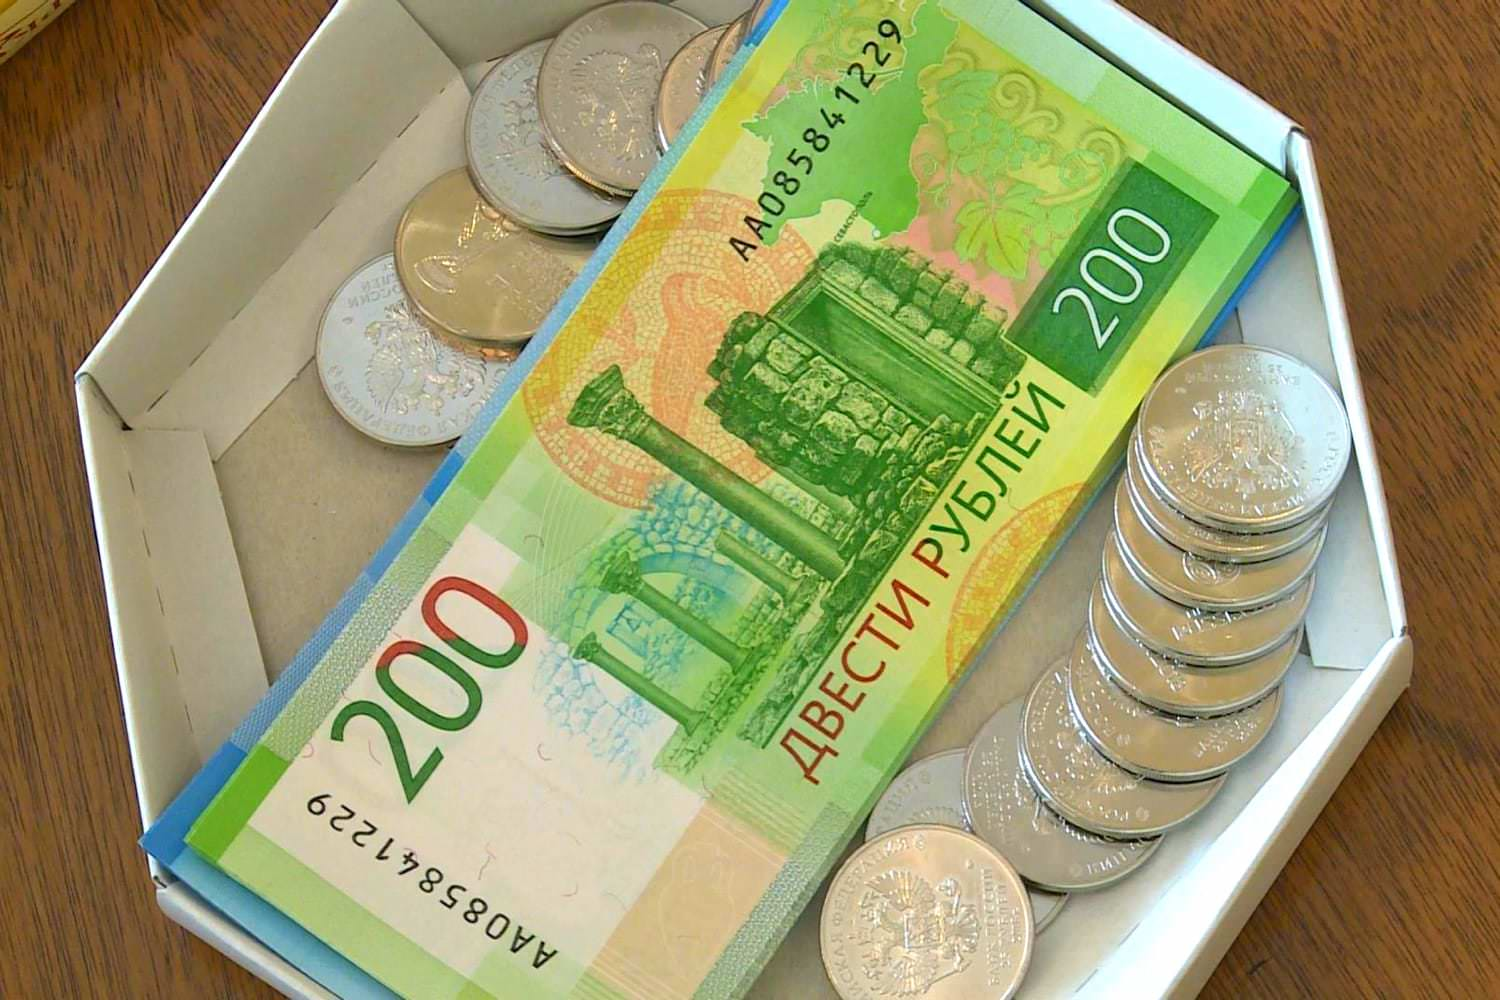cash: (192, 1, 1292, 1000)
coin: (315, 252, 520, 446), (819, 826, 1035, 1000), (1140, 342, 1350, 517), (398, 170, 595, 346), (961, 698, 1138, 892), (539, 1, 710, 195), (464, 37, 610, 235)
